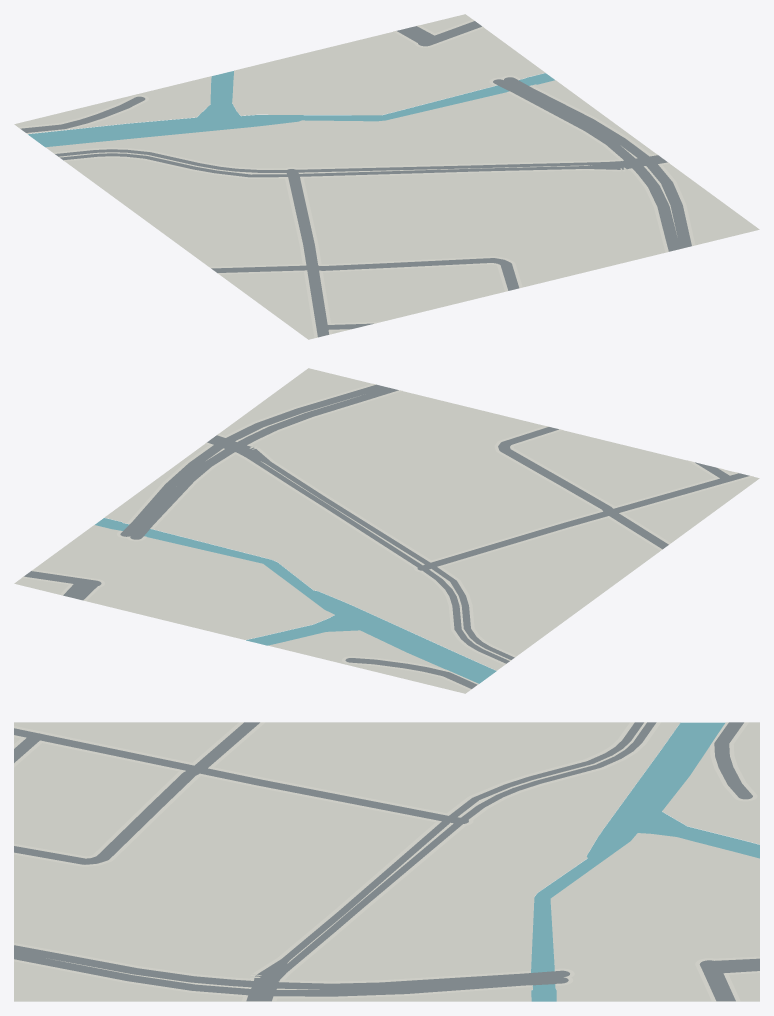
3 renders of one model, top to bottom at view 1: azimuth 30°, elevation 25°; view 2: azimuth 150°, elevation 25°; view 3: azimuth 270°, elevation 25°, orthographic. The views are drawn at different scales.
Visible parts, largest first — view 1: city; view 2: city; view 3: city.
Part boxes in pixels (x1=…): city: x1=14, y1=14, x2=759, y2=339; city: x1=14, y1=368, x2=759, y2=693; city: x1=14, y1=722, x2=759, y2=1001.
Bounding box in the file's own units: 443 × 0.4 × 500.
